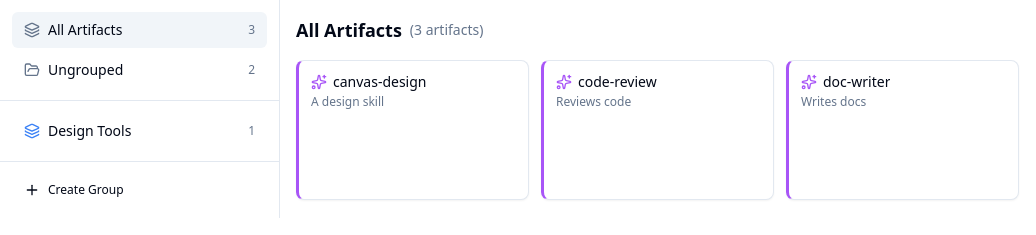
GroupedArtifactView › clicking "Ungrouped" shows only artifacts not in any group
The width and height of the screenshot is (1036, 235).
Click Ungrouped
What coordinates should you click on to do the following:
click the text "Ungrouped"
I would click on:
 (86, 70)
Its box is [48,60,123,79].
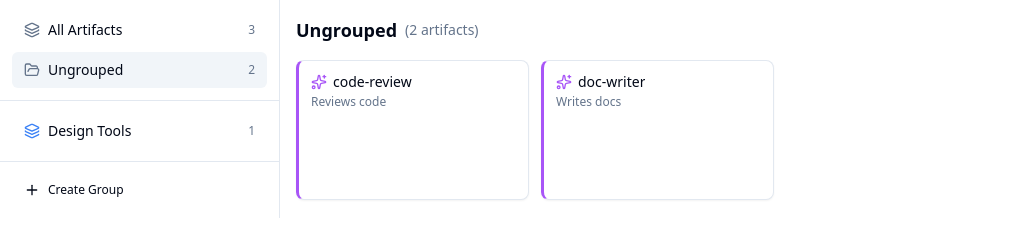
expect the text "code-review" is shown: met, box [333,73,412,90]
expect the button "canvas-design" is gone: met
expect the text "(2 artifacts)" is shown: met, box [405,20,478,40]
